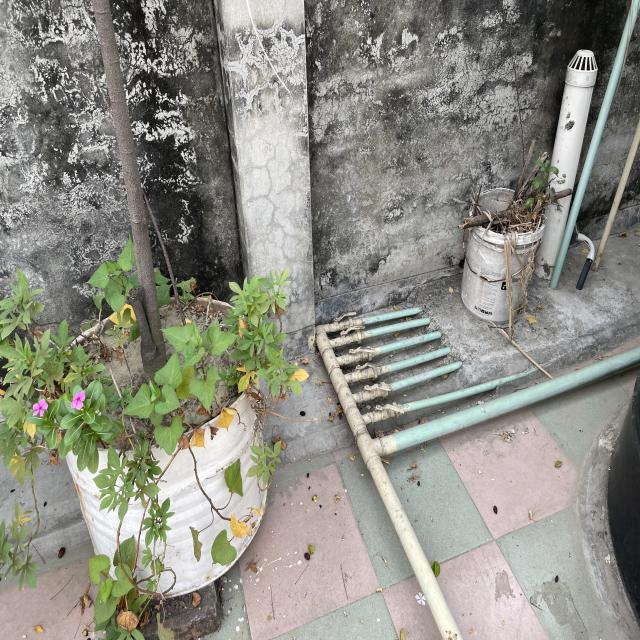Breeding Place: (55, 294, 273, 586), (462, 188, 537, 318)
